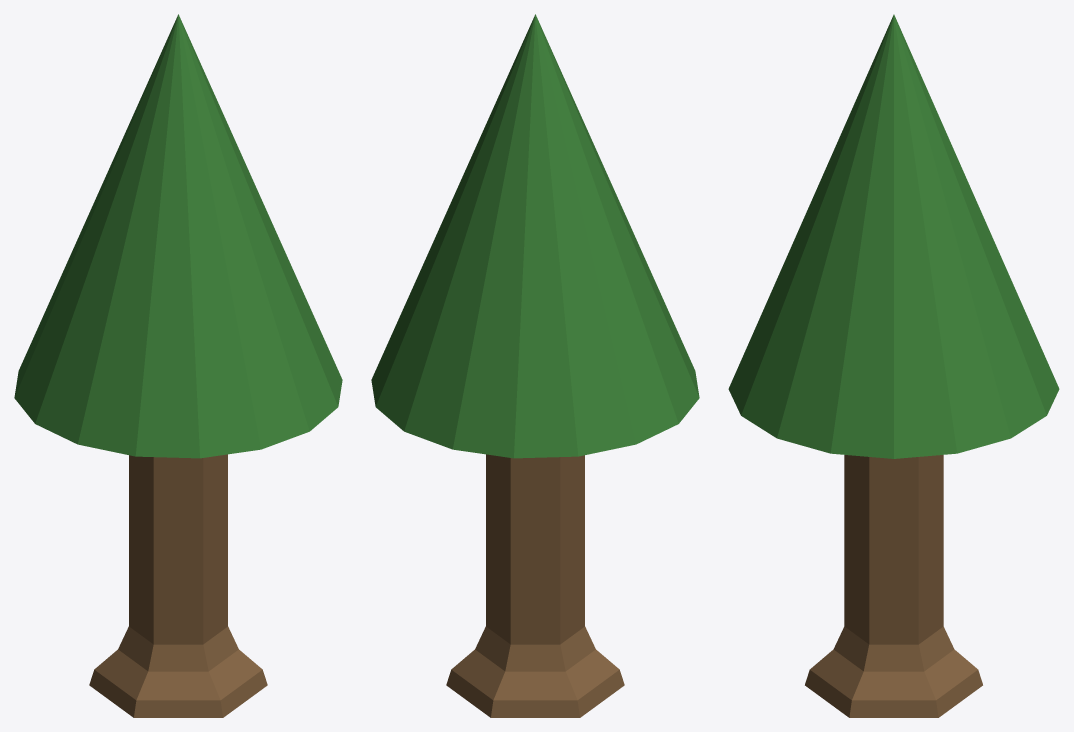
Rendered from tree.fbx.
3 renders of one model, left to right at view 1: azimuth 30°, elevation 25°; view 2: azimuth 150°, elevation 25°; view 3: azimuth 270°, elevation 25°, orthographic.
Visible parts, largest first — view 1: Cone, Cylinder; view 2: Cone, Cylinder; view 3: Cone, Cylinder.
Boxes of the visible parts, box(x1,y1,x2,y2) form: Cone: box(14, 14, 342, 458); Cylinder: box(89, 454, 267, 717); Cone: box(371, 14, 699, 458); Cylinder: box(446, 454, 624, 717); Cone: box(728, 14, 1059, 458); Cylinder: box(805, 455, 982, 717).
Size of the model in its own units: 200 by 447 by 200.
